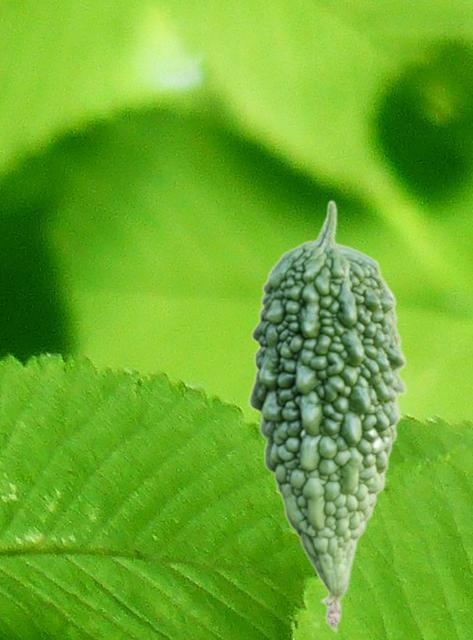ampalaya: (247, 199, 406, 632)
